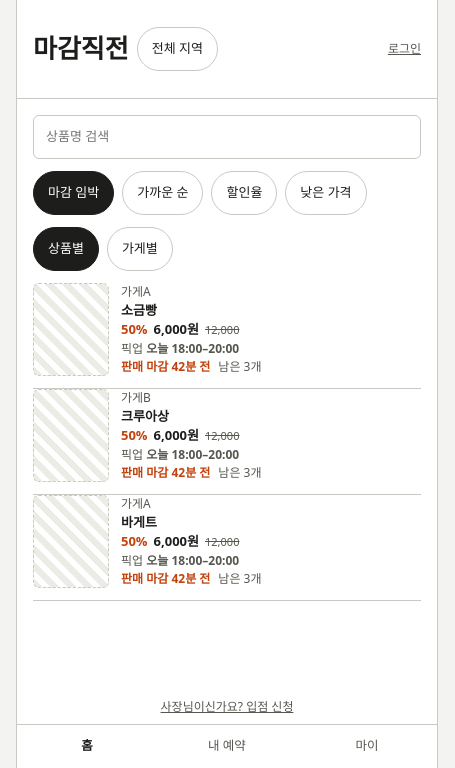
it: HomePage 가게별 보기 › 「가게별」을 누르면 URL view=store, 가게 카드 2개, 상품 카드 없음
Check: the link "소금빵" is shown, box [33, 283, 421, 389]
Click the button "가게별" at x=140, y=249, box [107, 227, 173, 271]
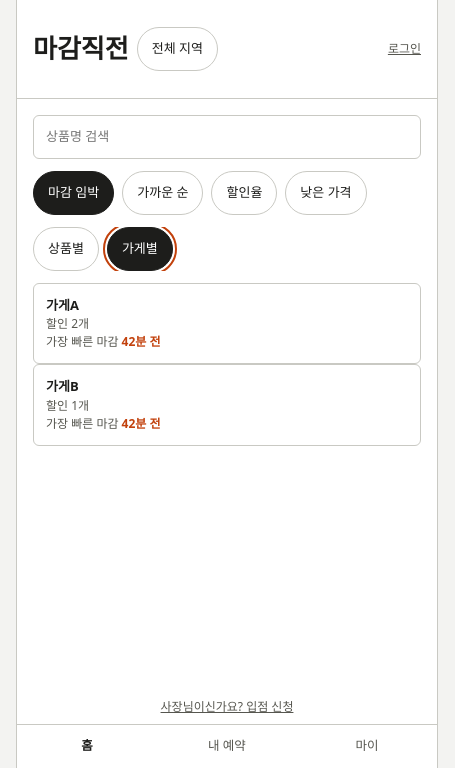
Check: the button "가게A 할인 2개 가장 빠른 마감 42분 전" is shown, box [46, 296, 408, 351]
Check: the button "가게B 할인 1개 가장 빠른 마감 42분 전" is shown, box [46, 377, 408, 433]
